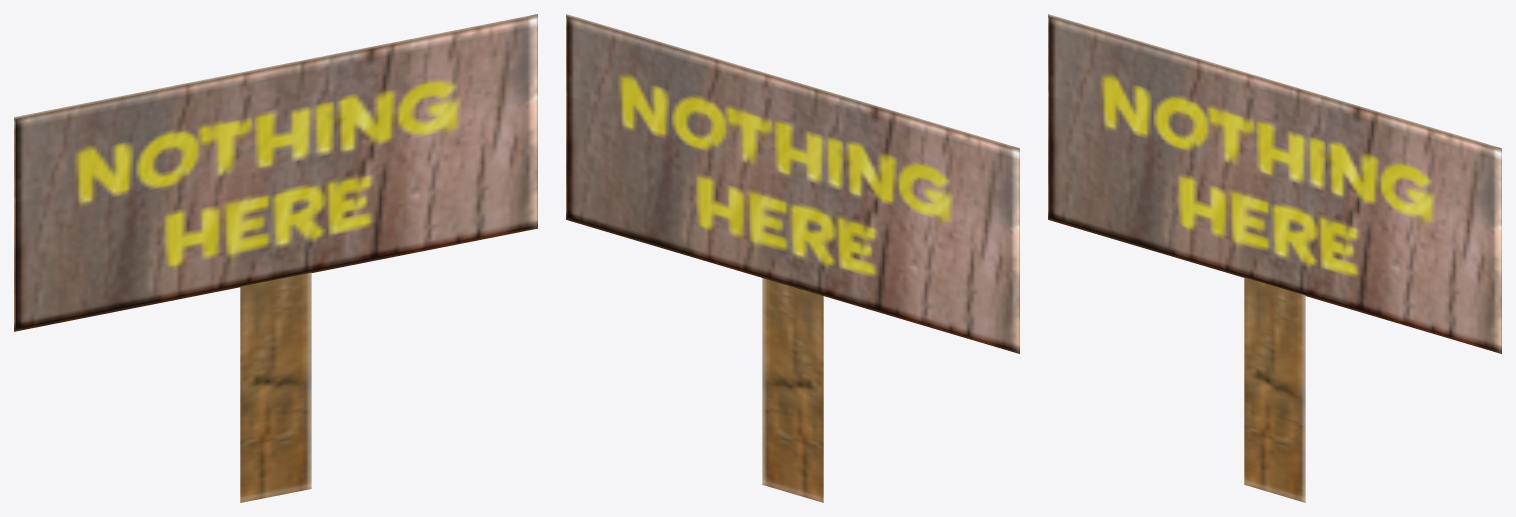
The model's file is wrongtway16.glb.
The picture shows the model from 3 angles, left to right: view 1: azimuth 30°, elevation 25°; view 2: azimuth 150°, elevation 25°; view 3: azimuth 330°, elevation 25°; orthographic projection. The views are drawn at different scales.
Visible parts, largest first — view 1: wrongtway16; view 2: wrongtway16; view 3: wrongtway16.
Boxes of the visible parts, x1,y1,x2,y2 form: wrongtway16: (14, 14, 537, 502); wrongtway16: (566, 14, 1019, 502); wrongtway16: (1048, 14, 1501, 502).
Size of the model in its own units: 568 by 469 by 49.69.
Materials: 1 (1 with a texture image).
